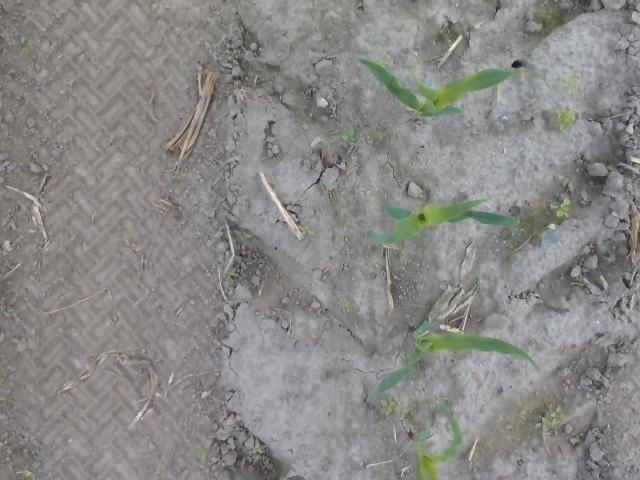Maize: (374, 317, 541, 400), (358, 57, 545, 123), (366, 196, 524, 247), (412, 406, 464, 480)
Weeds: (534, 405, 568, 430), (552, 108, 578, 130), (549, 198, 570, 218), (381, 398, 402, 416), (234, 228, 252, 242), (342, 128, 356, 142), (562, 75, 576, 88), (297, 225, 313, 236), (23, 41, 34, 53), (253, 444, 264, 454), (344, 302, 352, 312)
